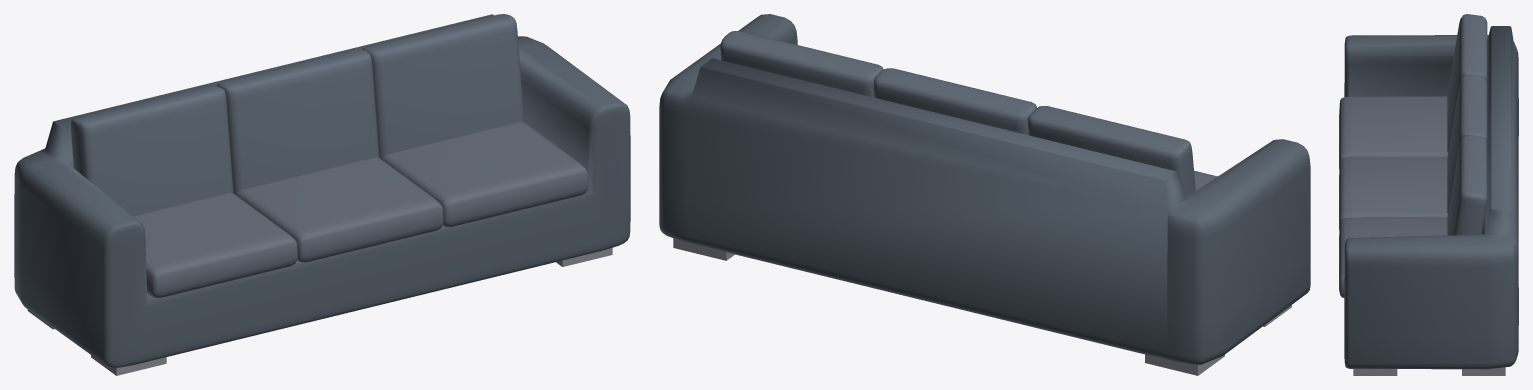
File: trio sofa.fbx
The picture shows the model from 3 angles, left to right: view 1: azimuth 30°, elevation 25°; view 2: azimuth 150°, elevation 25°; view 3: azimuth 270°, elevation 25°; orthographic projection. The views are drawn at different scales.
Parts seen in each view (by area): view 1: sofa3; view 2: sofa3; view 3: sofa3.
Boxes of the visible parts, x1,y1,x2,y2 form: sofa3: (14,14,630,375); sofa3: (659,14,1310,375); sofa3: (1339,14,1518,375).
Size of the model in its own units: 352 by 125 by 121.
